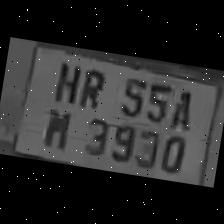0: (155, 127, 190, 175)
3: (78, 110, 113, 157), (132, 124, 162, 168)
5: (114, 70, 148, 118), (140, 76, 174, 124)
9: (106, 117, 138, 163)
A: (165, 82, 198, 132)
H: (48, 55, 84, 106)
M: (37, 103, 75, 150)
R: (74, 61, 110, 110)
